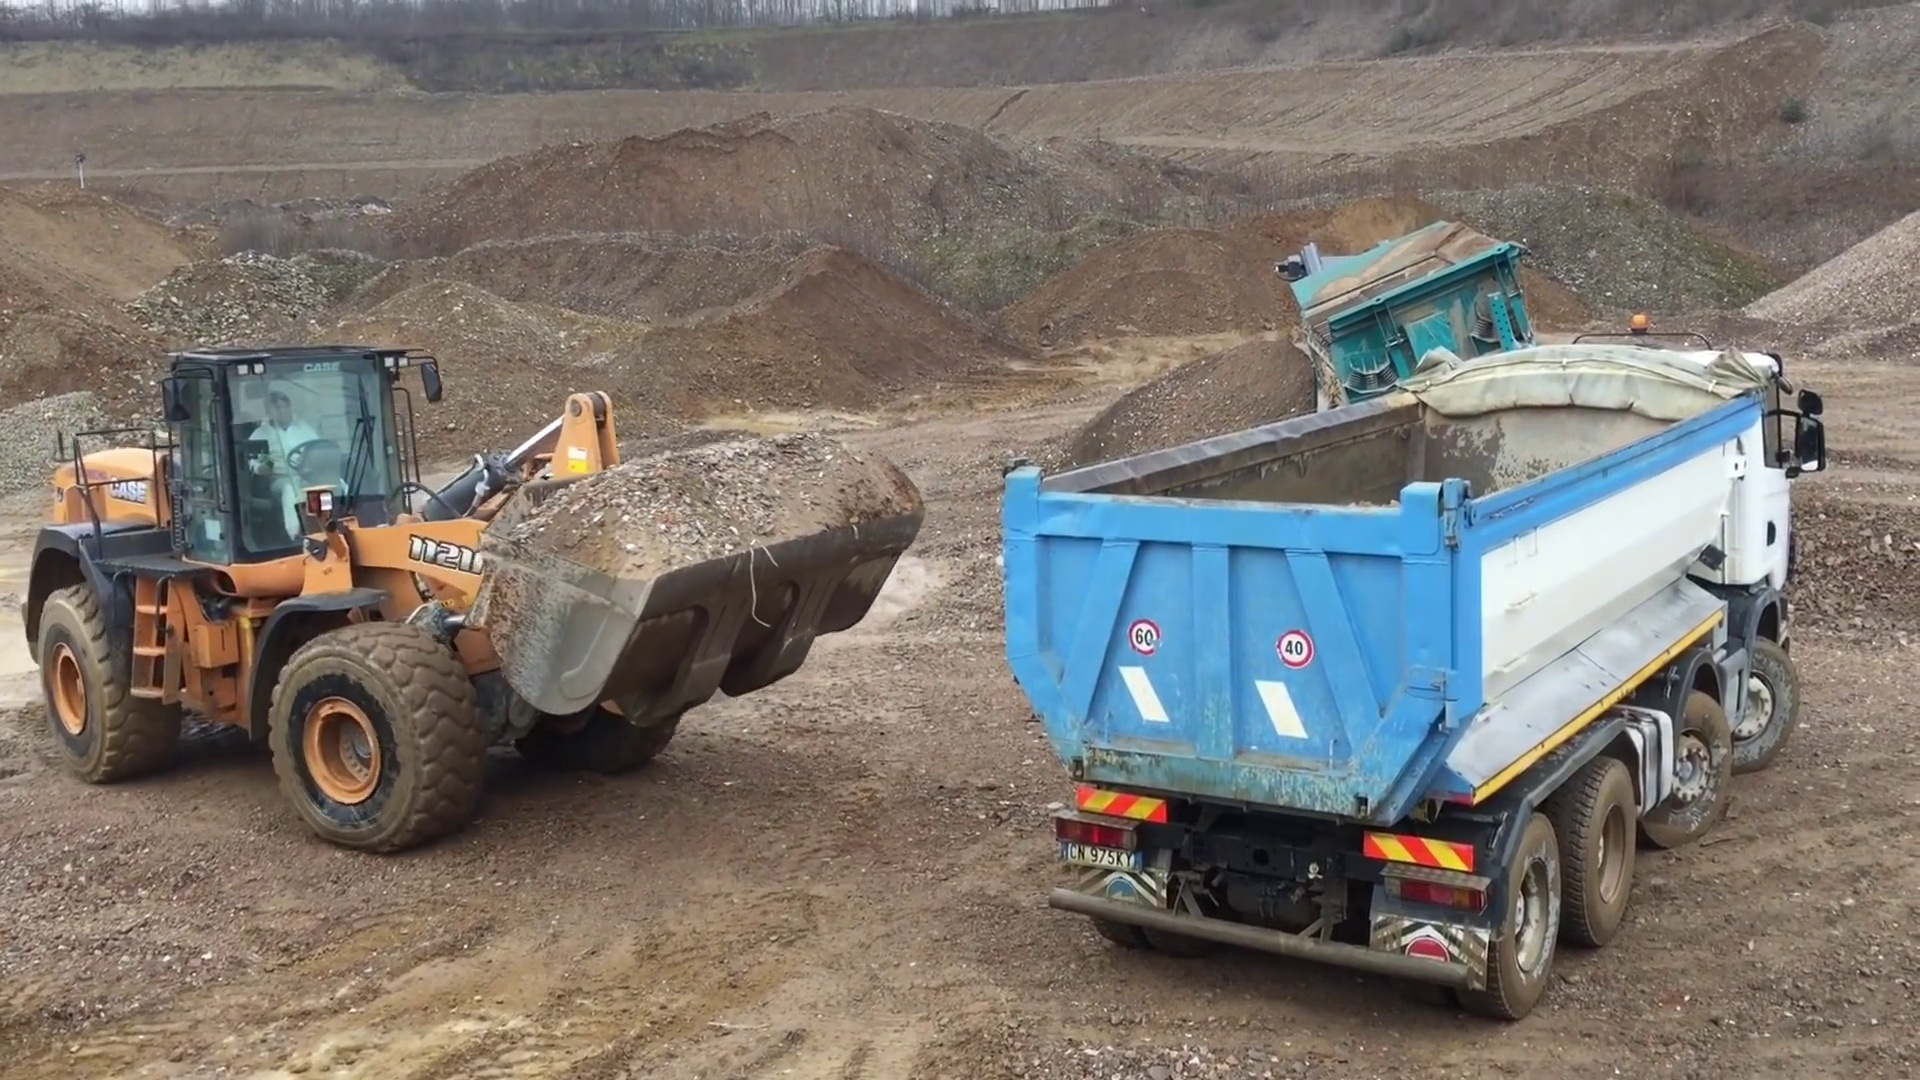person: (251, 386, 348, 572)
truck: (998, 340, 1832, 1022), (1274, 215, 1548, 426)
wheel loader: (21, 347, 924, 859)
